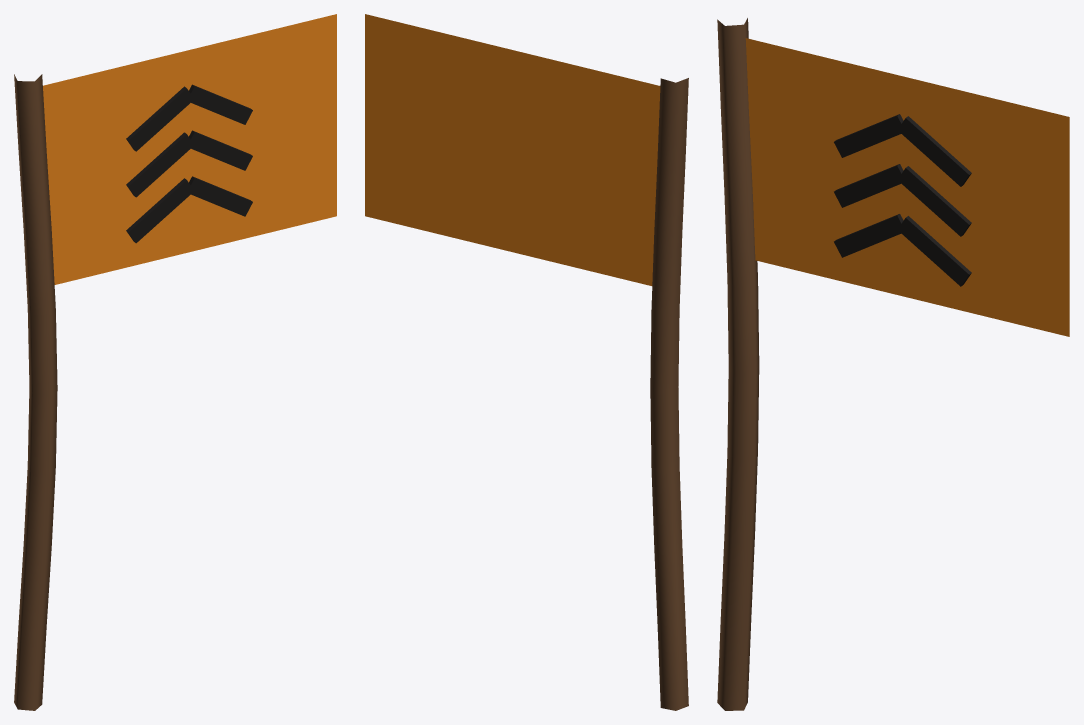
File: flag_colonie.glb
3 views of the same model, side by side, from view 1: azimuth 30°, elevation 25°; view 2: azimuth 150°, elevation 25°; view 3: azimuth 330°, elevation 25° (orthographic). The views are drawn at different scales.
Visible parts, largest first — view 1: flag_colonie; view 2: flag_colonie; view 3: flag_colonie.
Part boxes in pixels (left/top/right/bottom): flag_colonie: left=14, top=14, right=336, bottom=710; flag_colonie: left=365, top=14, right=688, bottom=710; flag_colonie: left=717, top=18, right=1069, bottom=710.
Bounding box in the file's own units: 7.49 × 14.03 × 0.6427.
